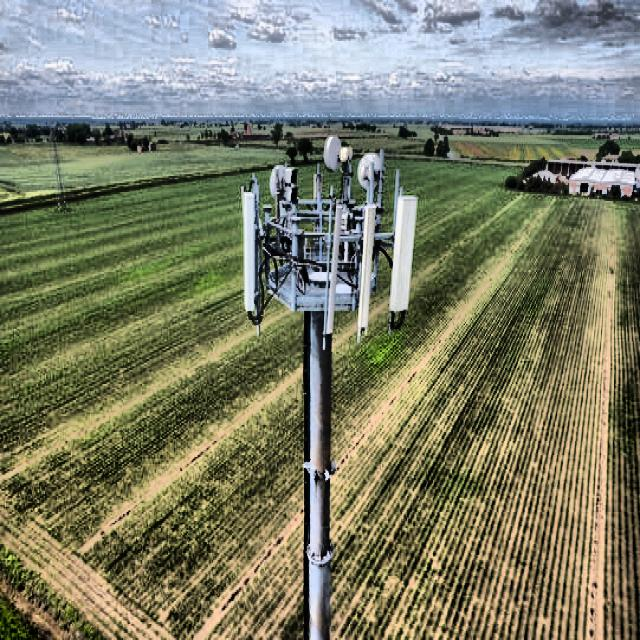antenna: (142, 189, 302, 639), (323, 201, 342, 334), (357, 204, 375, 341), (241, 189, 257, 316)
